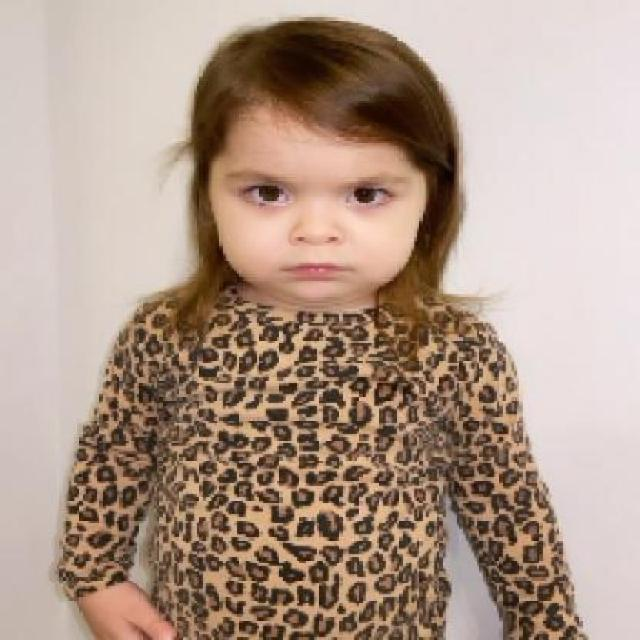child: (54, 14, 589, 637)
